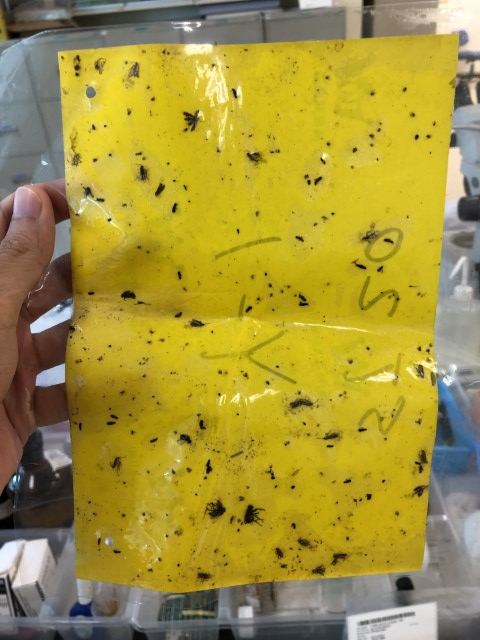DBM: (411, 481, 428, 499), (126, 60, 142, 79), (137, 161, 150, 184), (186, 316, 210, 328), (413, 362, 427, 381)
